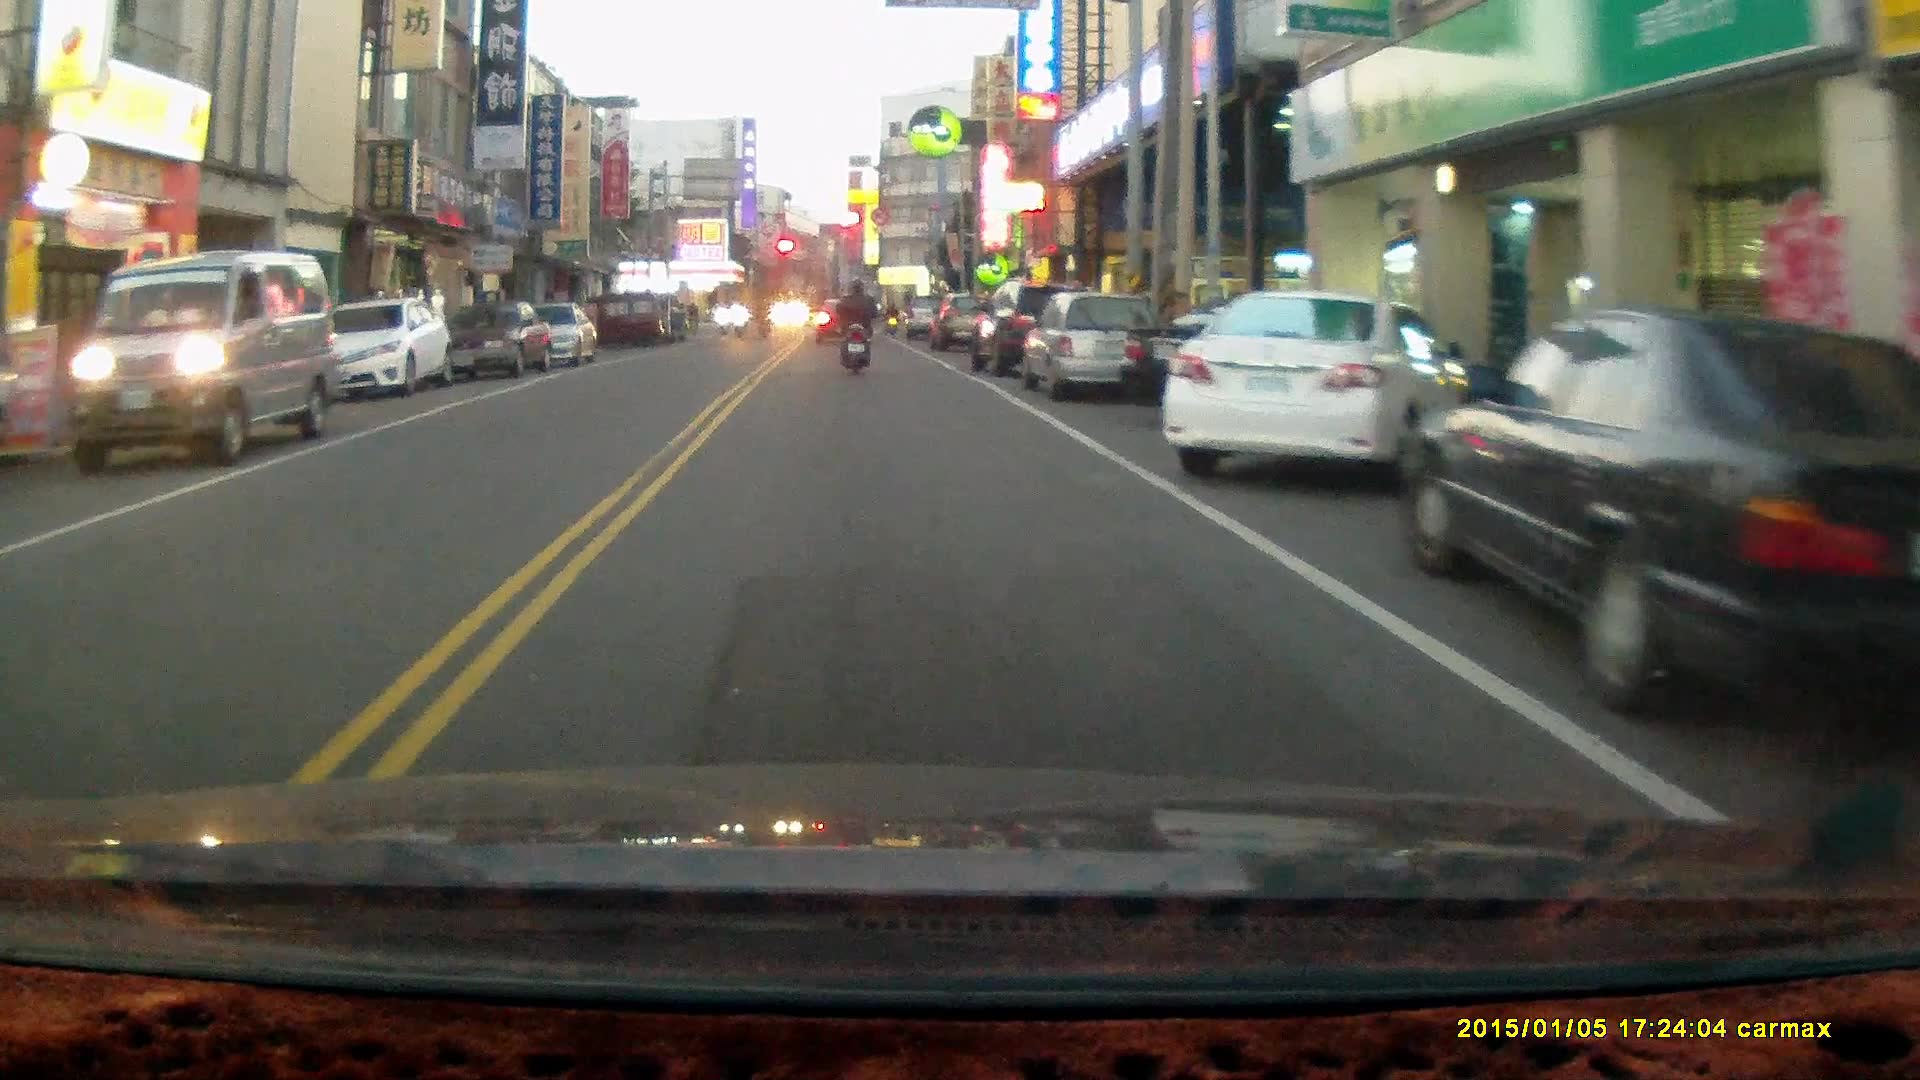rider: (834, 277, 879, 378), (728, 299, 751, 336)
vehicle: (1398, 309, 1920, 739), (1161, 290, 1460, 492), (69, 248, 339, 467), (1117, 305, 1422, 432), (1020, 293, 1166, 395), (312, 295, 453, 399), (963, 286, 1108, 383), (440, 298, 557, 384), (507, 302, 597, 374)
